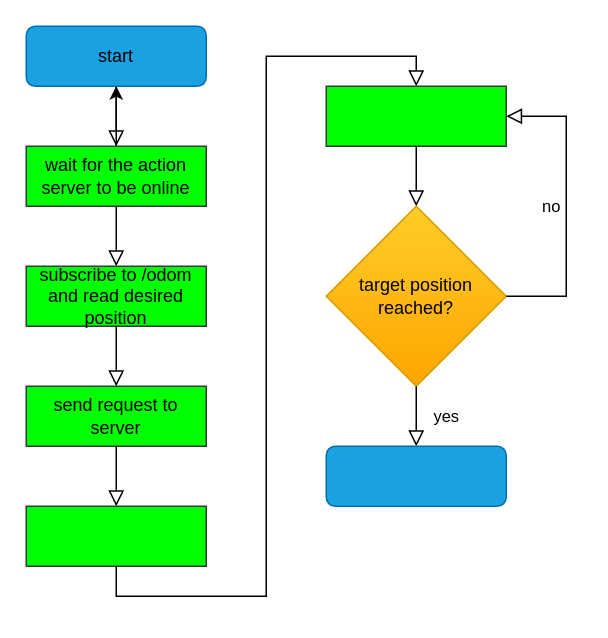
Image size: 608x638. Some labels were removed from this diagram. The shapes that lost their labels are listed below. From the top down, each one's centre as x and y in pixels, then its label:
At point (415, 115): "update and publish the custom message".
At point (415, 475): "end".
At point (115, 535): "receive position and velocity from /odom".
